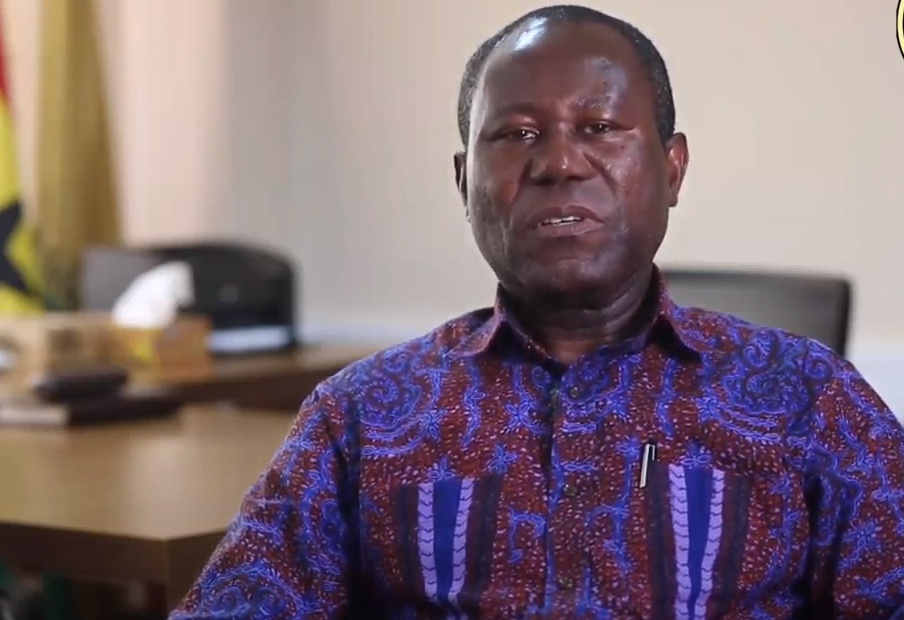mouth: (522, 204, 603, 241)
nose: (525, 154, 591, 181)
